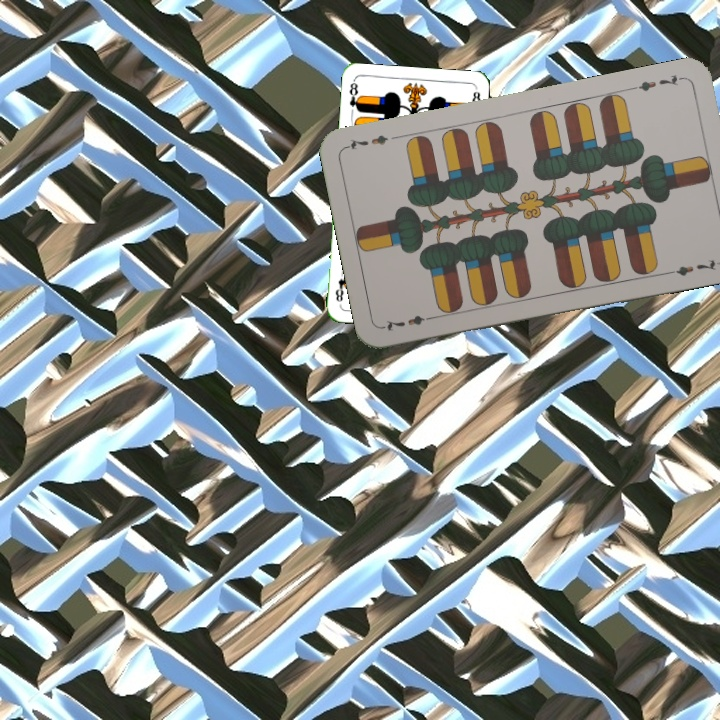E7: (627, 70, 686, 94), (379, 311, 438, 333)
E8: (345, 78, 363, 115)
